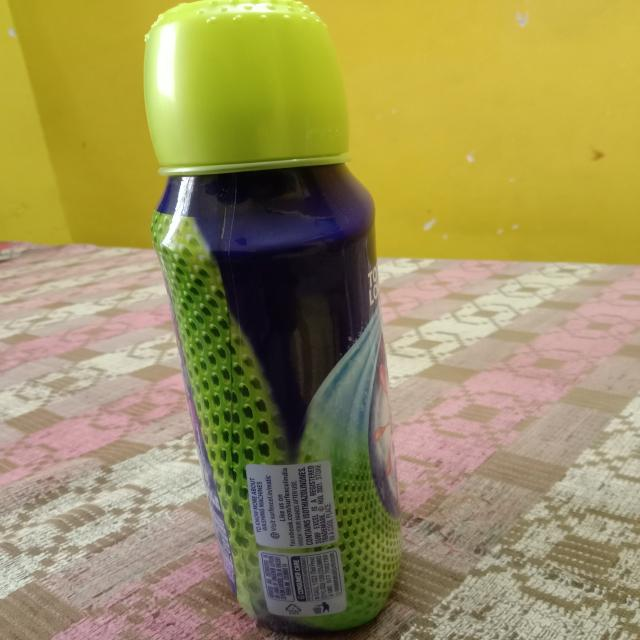detergent: (140, 1, 415, 640)
